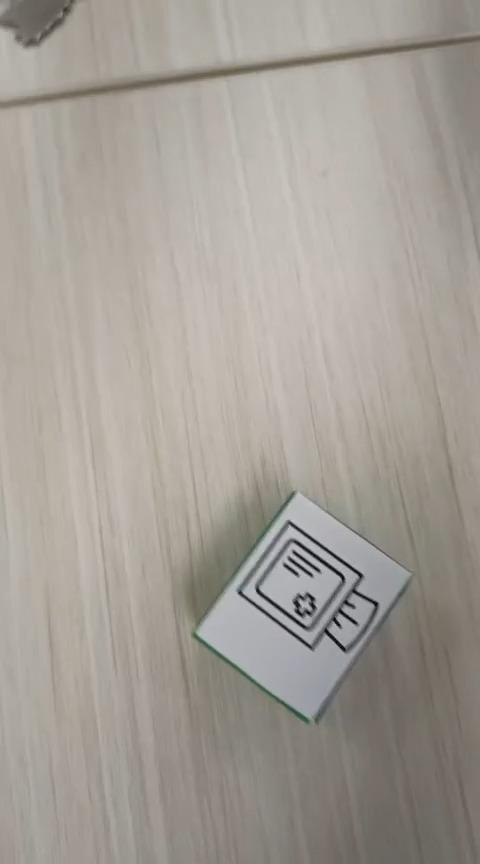Gauze: (191, 489, 414, 725)
